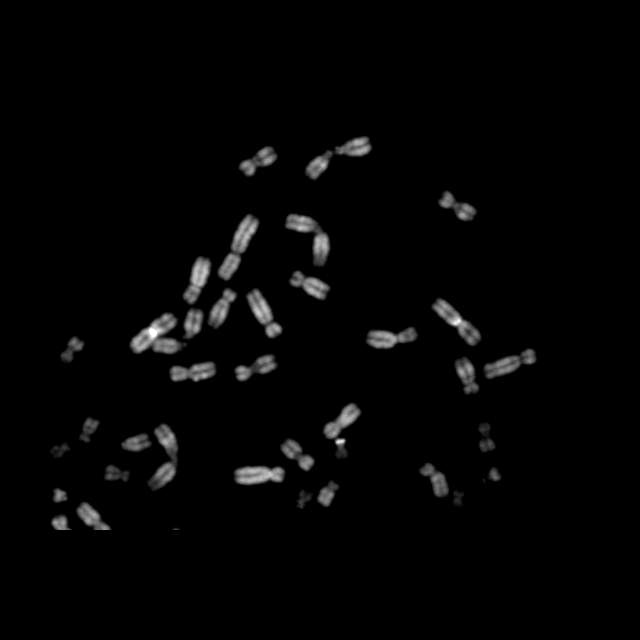chromosome: (220, 214, 258, 280), (286, 214, 328, 266), (433, 298, 479, 344), (150, 422, 180, 490), (131, 312, 177, 353), (247, 288, 283, 336), (484, 348, 536, 379), (180, 258, 210, 304), (324, 404, 360, 438), (290, 270, 330, 300), (240, 147, 278, 177), (208, 288, 236, 328), (367, 327, 417, 348), (441, 190, 475, 220), (234, 466, 284, 486), (282, 439, 313, 471), (238, 354, 276, 380), (419, 464, 448, 496), (456, 356, 480, 394), (78, 503, 112, 529), (171, 362, 215, 382), (306, 150, 332, 178), (318, 478, 340, 506), (336, 137, 370, 155), (120, 433, 150, 453), (183, 308, 202, 339), (61, 336, 83, 362), (79, 416, 97, 446), (104, 464, 131, 484), (479, 422, 497, 451), (153, 339, 182, 355), (334, 440, 348, 460), (52, 488, 68, 504), (488, 466, 502, 484), (296, 492, 310, 510), (52, 442, 68, 456)
